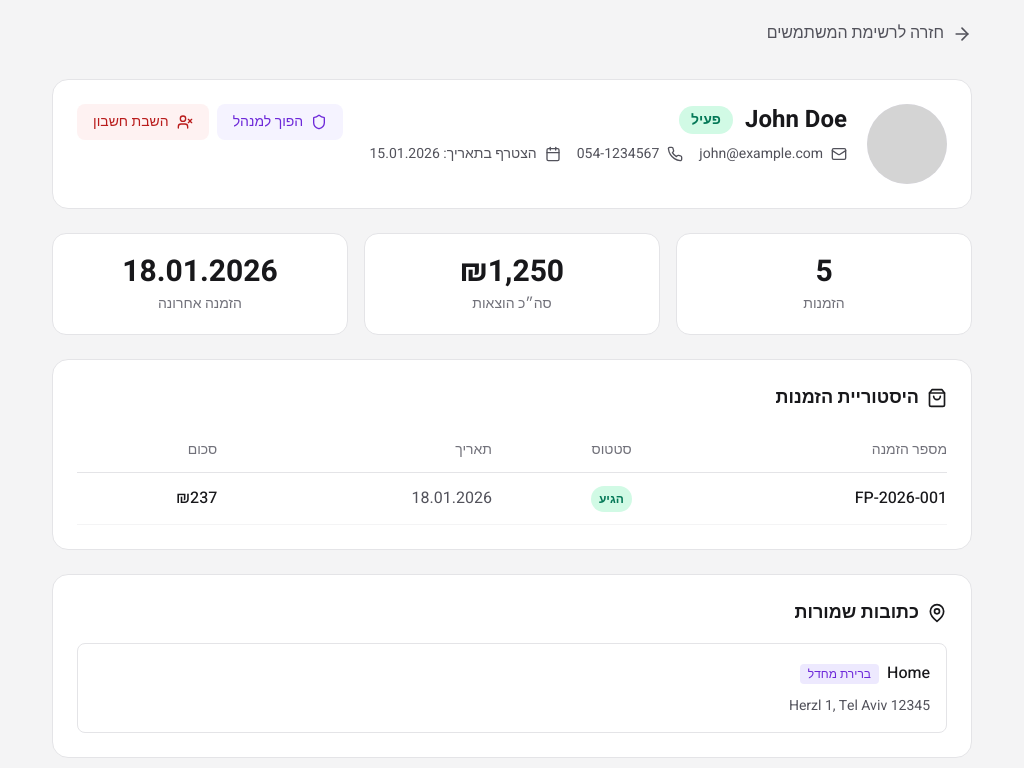
AdminUserDetailPage › Actions › should show confirmation modal on action click
Click the button with test id "role-action-button" at (280, 122), box [217,104,343,140]
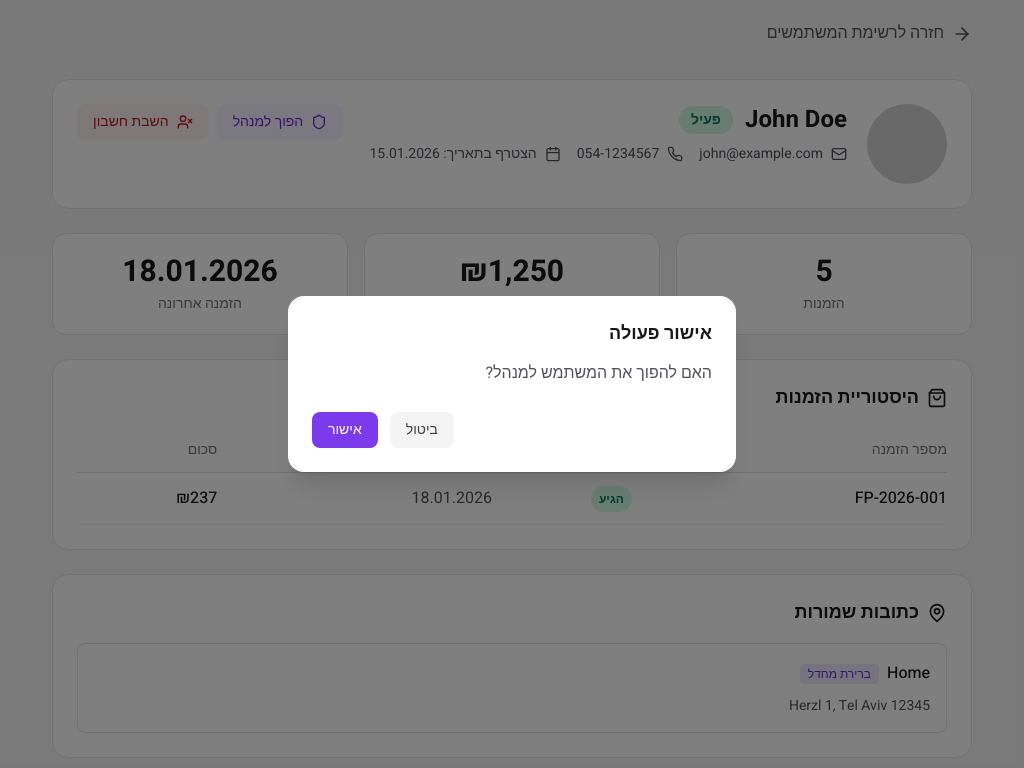
expect the element with test id "confirm-modal" is shown: met
